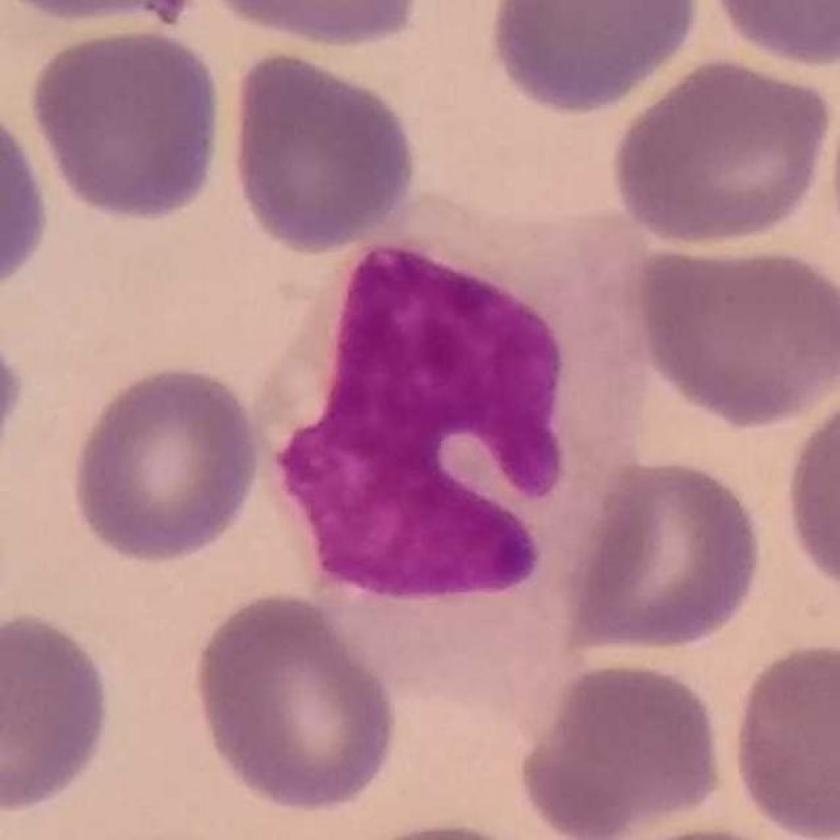monocyte: (252, 180, 664, 730)
